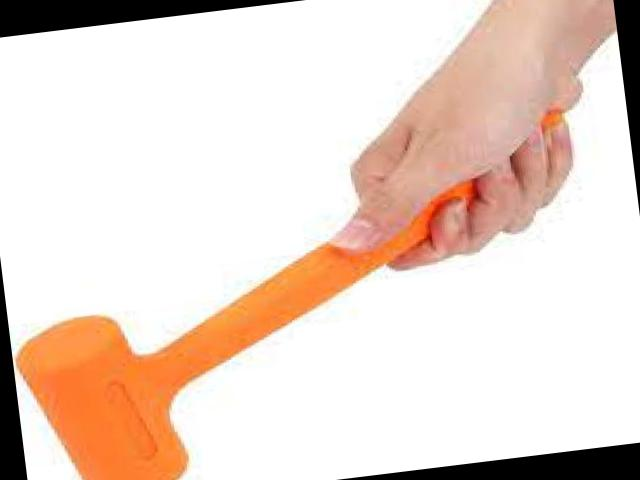hammer: (0, 90, 603, 480)
